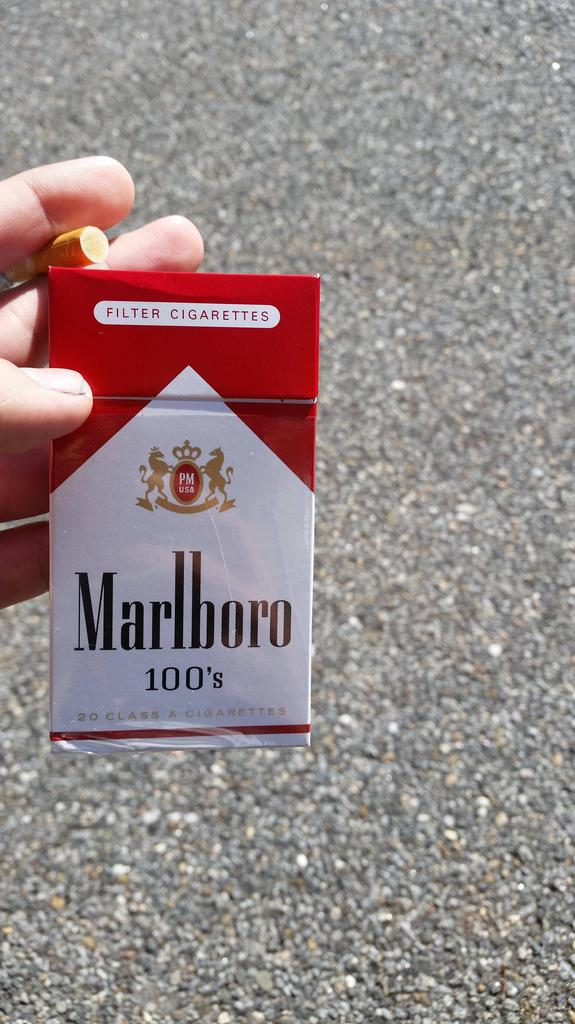marlboro_red: (51, 267, 311, 742)
